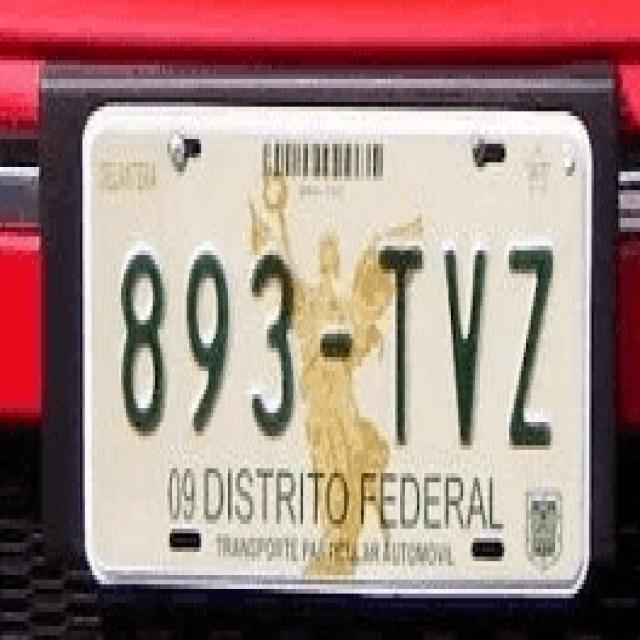placa: (97, 209, 581, 473)
